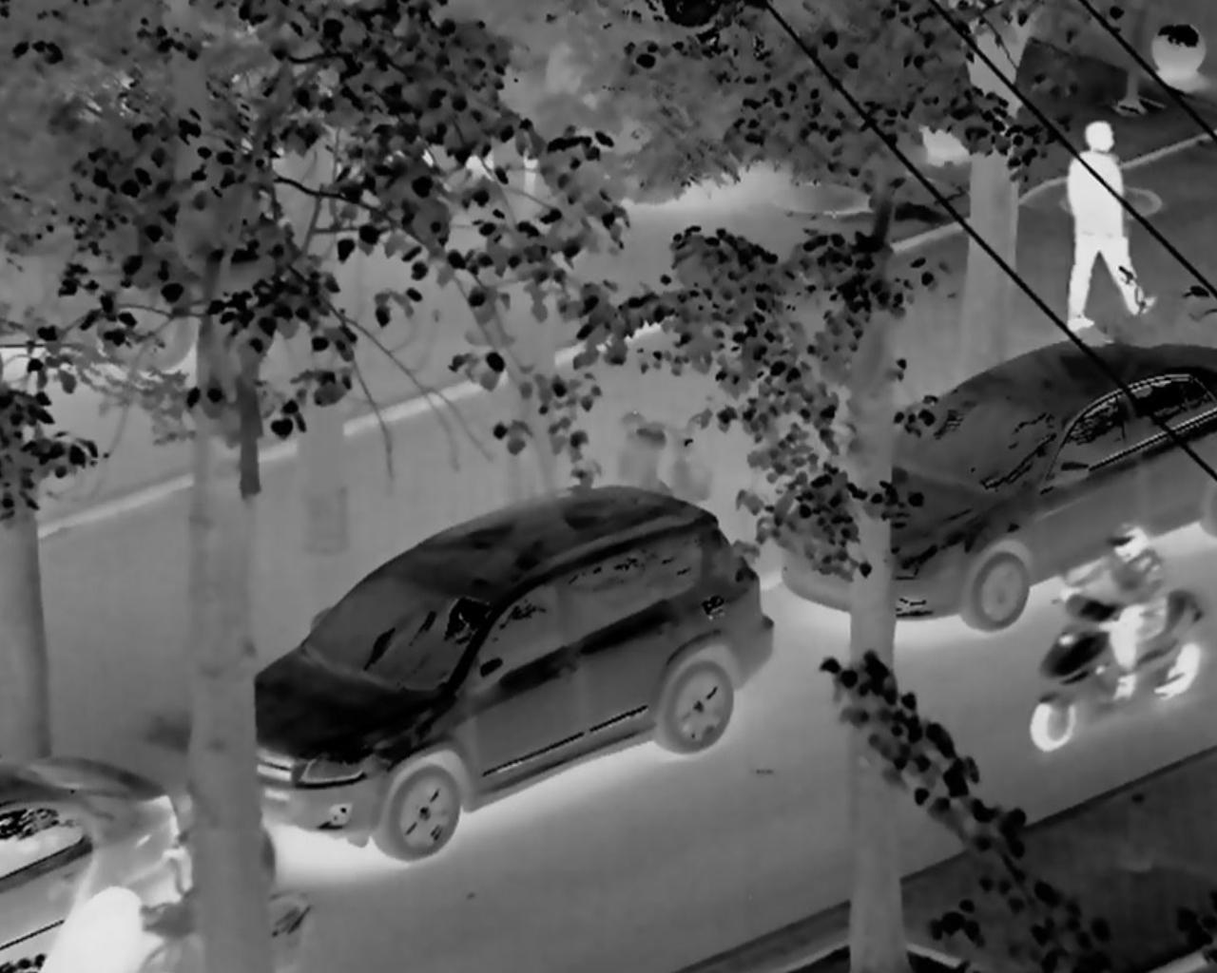person: (1010, 501, 1205, 749), (1049, 110, 1153, 355)
